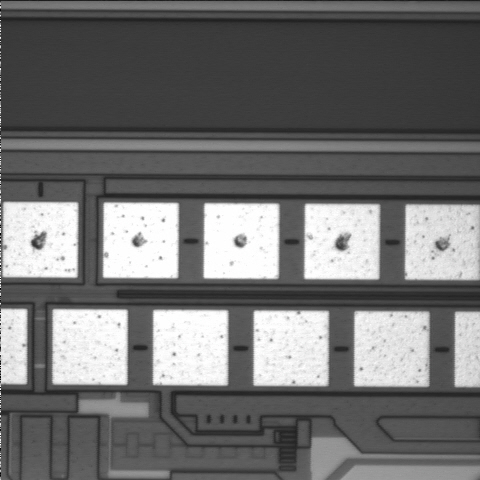pad: (103, 202, 179, 278), (203, 203, 279, 279), (52, 309, 128, 385), (253, 310, 329, 386), (3, 202, 78, 278), (304, 204, 380, 279), (153, 310, 228, 386), (354, 311, 429, 387)
